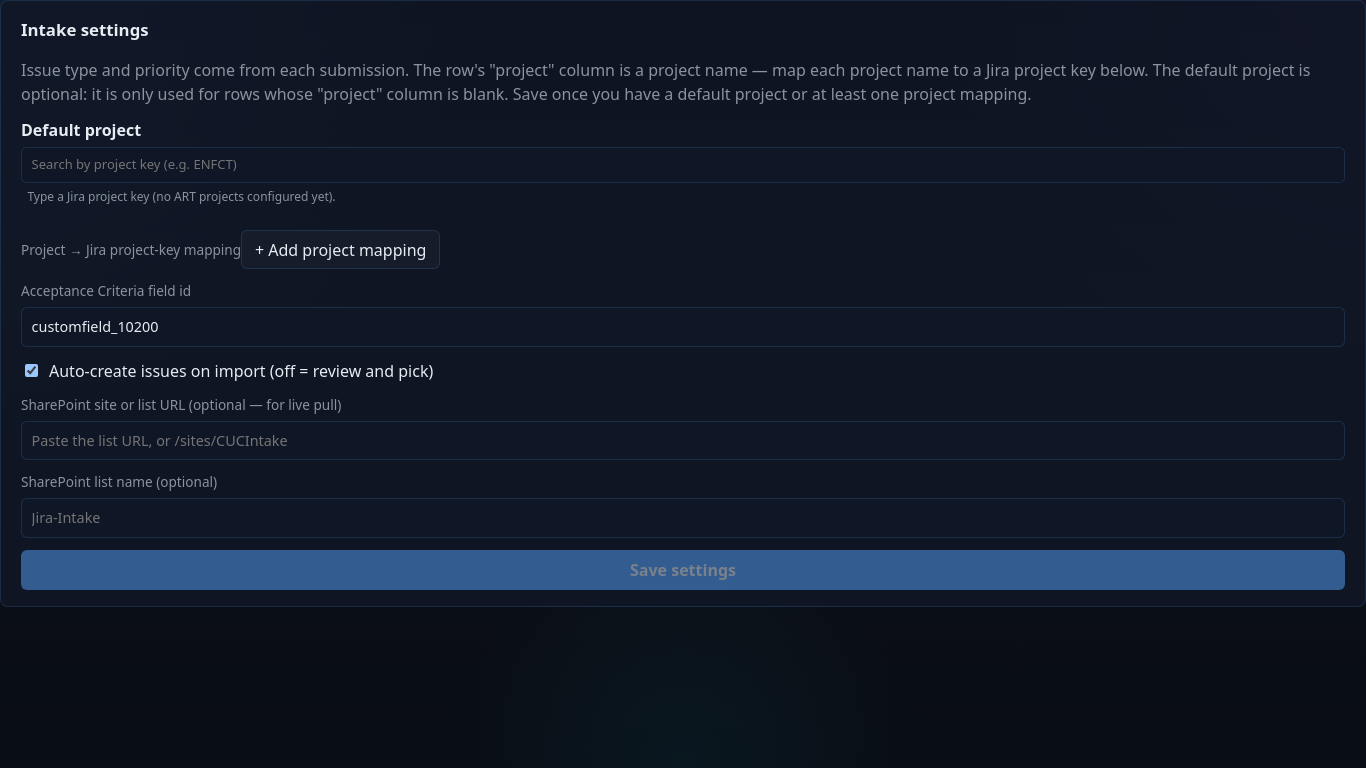
IntakeConfigPanel › keeps the full site URL and fills the list name when a full List URL is pasted (on blur)
Type "DEFLT" into the dropdown labelled "Default project" at (683, 165), box [21,147,1345,183]
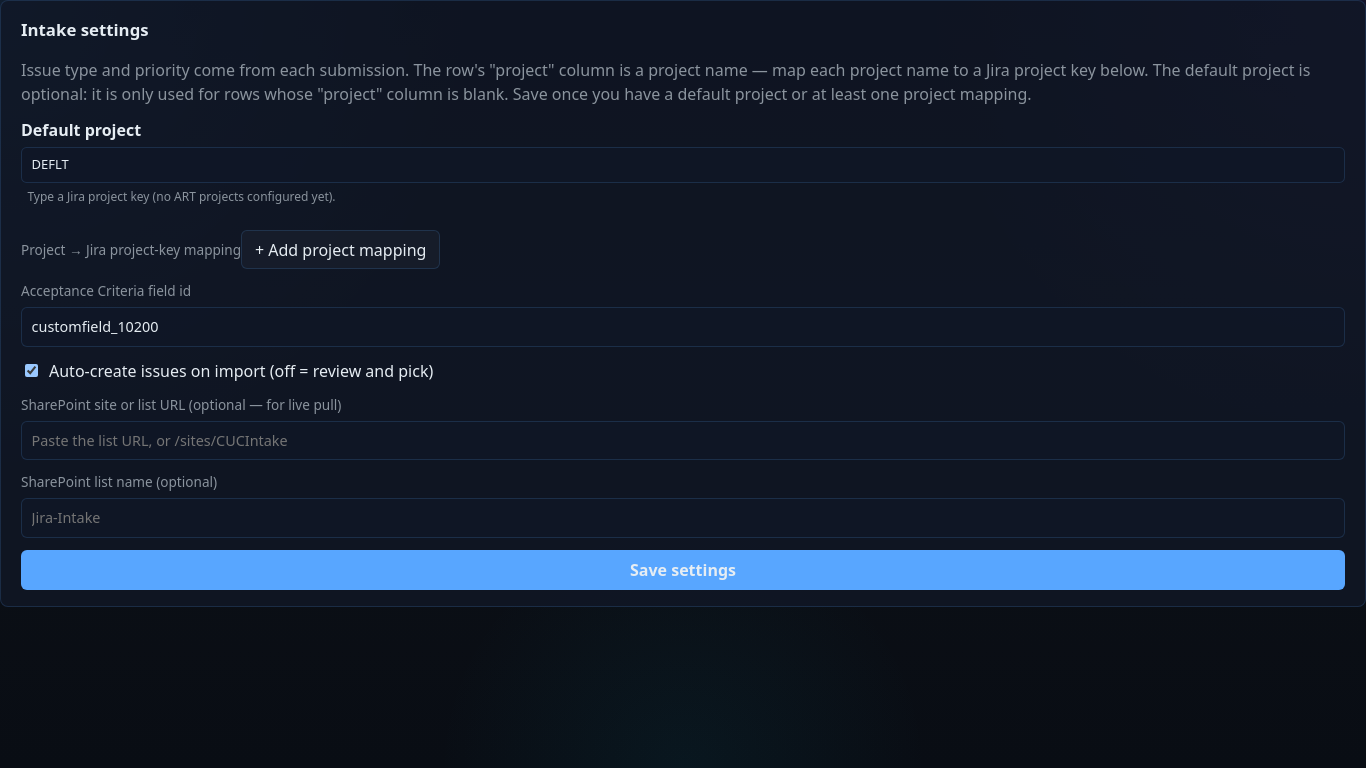
Type "https://contoso.sharepoint.com/sites/CUCIntake/Lists/Jira-Intake/AllItems.aspx" into the field labelled "SharePoint site or list URL (optional — for live pull)" at (683, 441), box [21,421,1345,460]
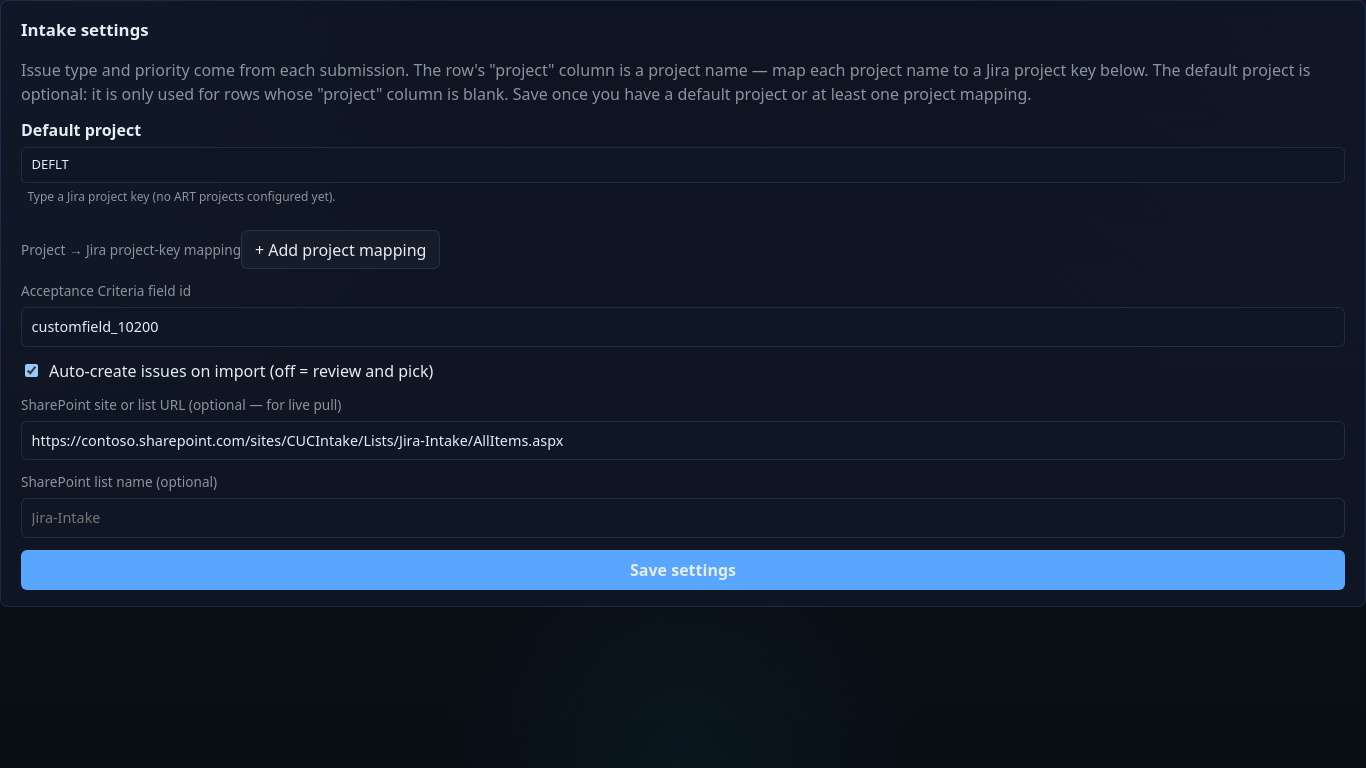
Leave the field labelled "SharePoint site or list URL (optional — for live pull)", box [21,421,1345,460]
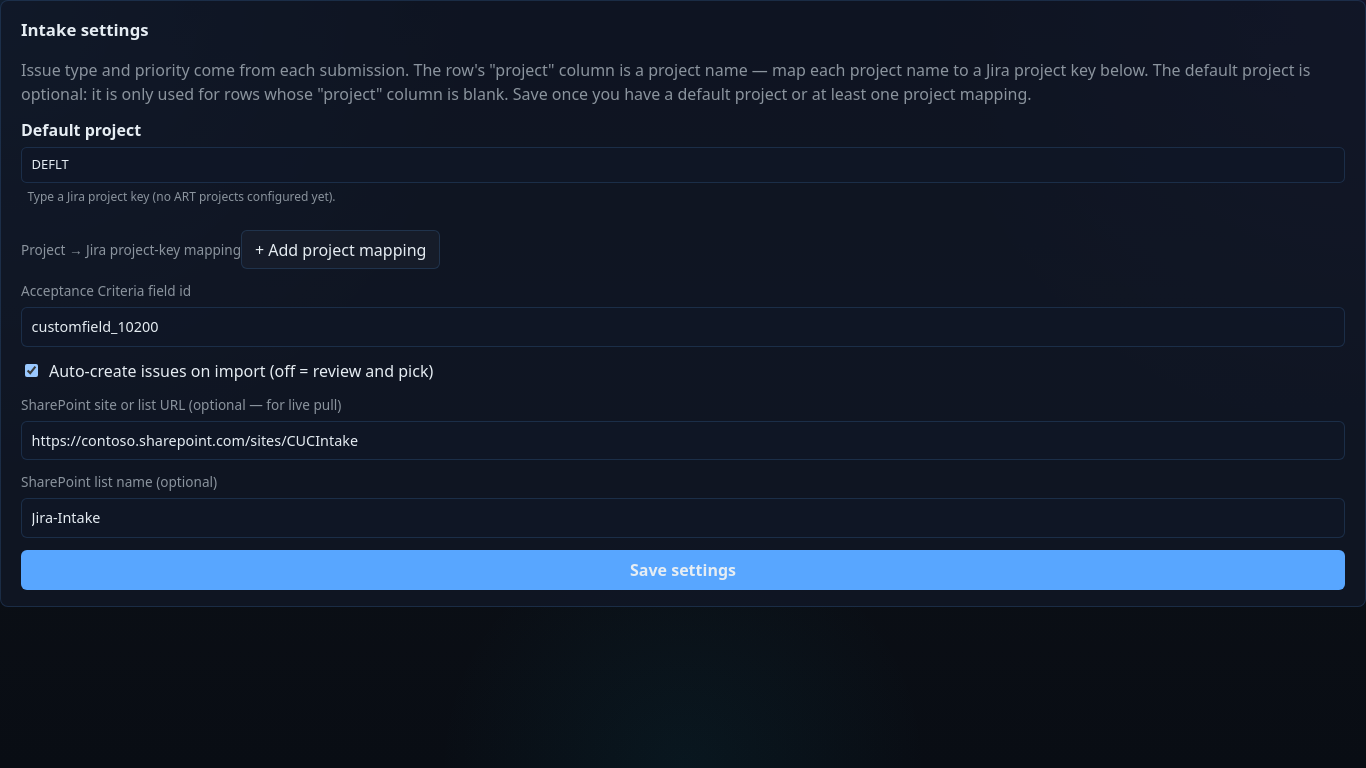
expect the field labelled "SharePoint site or list URL (optional — for live pull)" holds "https://contoso.sharepoint.com/sites/CUCIntake": met, box [21,421,1345,460]
expect the field labelled "SharePoint list name (optional)" holds "Jira-Intake": met, box [21,498,1345,538]
